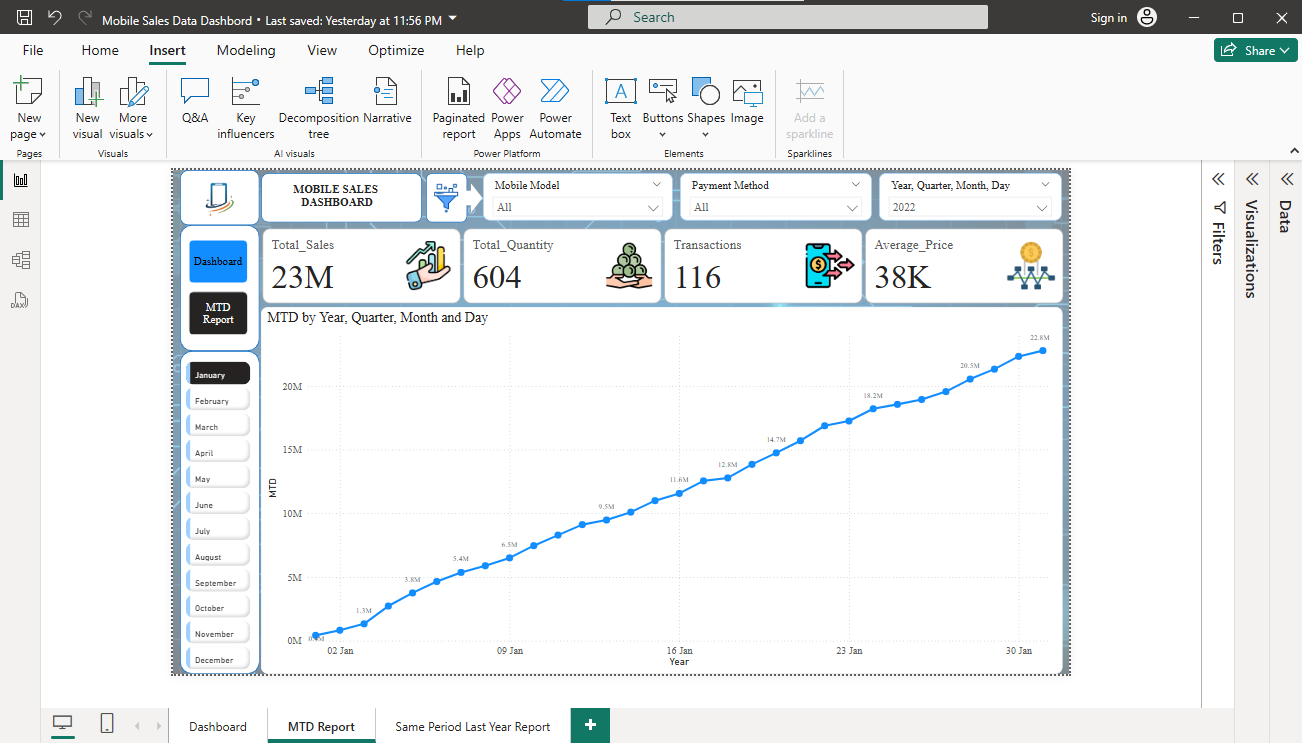

This screenshot's page, from the dashboard's own definition file:
{"tool":"powerbi","page":{"name":"MTD Report","canvas":[1280,720],"ordinal":1},"visuals":[{"type":"shape","box":[9.9,0,113.6,79],"z":0},{"type":"shape","box":[125.3,4.4,230,70.8],"z":1000},{"type":"image","box":[19.2,8.8,92.9,63.4],"z":2000},{"type":"slicer","fields":{"Values":["Sales_Data.Mobile Model"]},"box":[442.4,4.4,271.3,67.8],"z":3000},{"type":"slicer","fields":{"Values":["Sales_Data.Payment Method"]},"box":[724.1,4.4,274.3,67.8],"z":4000},{"type":"slicer","fields":{"Values":["Custom_Calendar.Date.Variation.Date Hierarchy.Year","Custom_Calendar.Date.Variation.Date Hierarchy.Quarter","Custom_Calendar.Date.Variation.Date Hierarchy.Month","Custom_Calendar.Date.Variation.Date Hierarchy.Day"]},"box":[1008.7,4.3,260.9,68.1],"z":5000},{"type":"shape","box":[361.3,4.4,59,70.8],"z":6000},{"type":"image","box":[361.3,14.7,57.5,51.6],"z":7000},{"type":"shape","box":[408.5,19.2,33.9,42.8],"z":8000},{"type":"textbox","box":[135.7,14.7,197.6,54.6],"z":9000},{"type":"shape","box":[10.3,78.2,113.5,179.9],"z":10000},{"type":"cardVisual","fields":{"Data":["Sales_Data.Total_Sales","Sales_Data.Total_Quantity","Sales_Data.Transactions","Sales_Data.Average_Price"]},"box":[123.2,78.3,1156.5,117.4],"z":11000},{"type":"shape","box":[10,258.8,113.8,461.2],"z":12000},{"type":"advancedSlicerVisual","fields":{"Values":["Custom_Calendar.Date.Variation.Date Hierarchy.Month"]},"box":[19.2,268.4,92.9,451.2],"z":13000},{"type":"lineChart","fields":{"Category":["Custom_Calendar.Date.Variation.Date Hierarchy.Year","Custom_Calendar.Date.Variation.Date Hierarchy.Quarter","Custom_Calendar.Date.Variation.Date Hierarchy.Month","Custom_Calendar.Date.Variation.Date Hierarchy.Day"],"Y":["Sales_Data.MTD"]},"box":[125,196.2,1145,523.8],"z":14000},{"type":"pageNavigator","box":[18.6,95.7,92.9,145.7],"z":14001}]}

Visuals, with their boxes on the page's 1280x720 design canvas (x1, y1, x2, y2). These are canvas units, not pixel positions in the 1302x743 screenshot, which may show the page scaled, cropped or inside an application window:
shape: bbox(10, 0, 124, 79)
shape: bbox(125, 4, 355, 75)
image: bbox(19, 9, 112, 72)
slicer - Sales_Data.Mobile Model: bbox(442, 4, 714, 72)
slicer - Sales_Data.Payment Method: bbox(724, 4, 998, 72)
slicer - Custom_Calendar.Date.Variation.Date Hierarchy.Year x Custom_Calendar.Date.Variation.Date Hierarchy.Quarter: bbox(1009, 4, 1270, 72)
shape: bbox(361, 4, 420, 75)
image: bbox(361, 15, 419, 66)
shape: bbox(408, 19, 442, 62)
textbox: bbox(136, 15, 333, 69)
shape: bbox(10, 78, 124, 258)
cardVisual - Sales_Data.Total_Sales x Sales_Data.Total_Quantity: bbox(123, 78, 1280, 196)
shape: bbox(10, 259, 124, 720)
advancedSlicerVisual - Custom_Calendar.Date.Variation.Date Hierarchy.Month: bbox(19, 268, 112, 720)
lineChart - Custom_Calendar.Date.Variation.Date Hierarchy.Year x Custom_Calendar.Date.Variation.Date Hierarchy.Quarter: bbox(125, 196, 1270, 720)
pageNavigator: bbox(19, 96, 112, 241)
